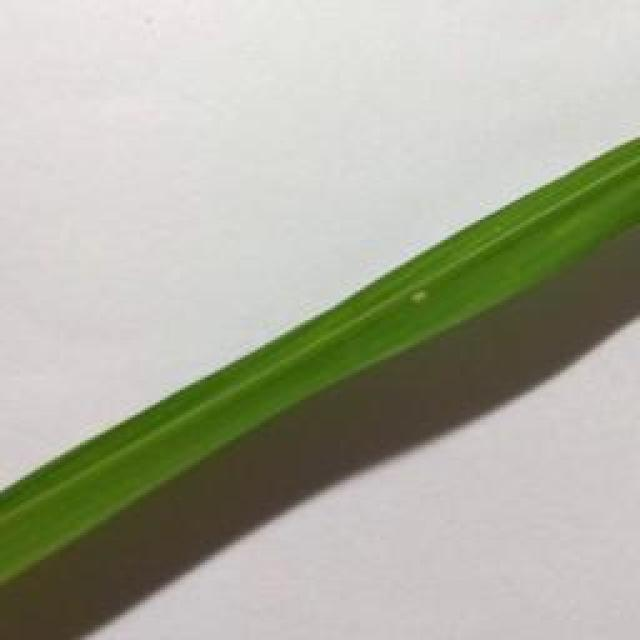Healthy-Plant: (0, 133, 640, 588)
